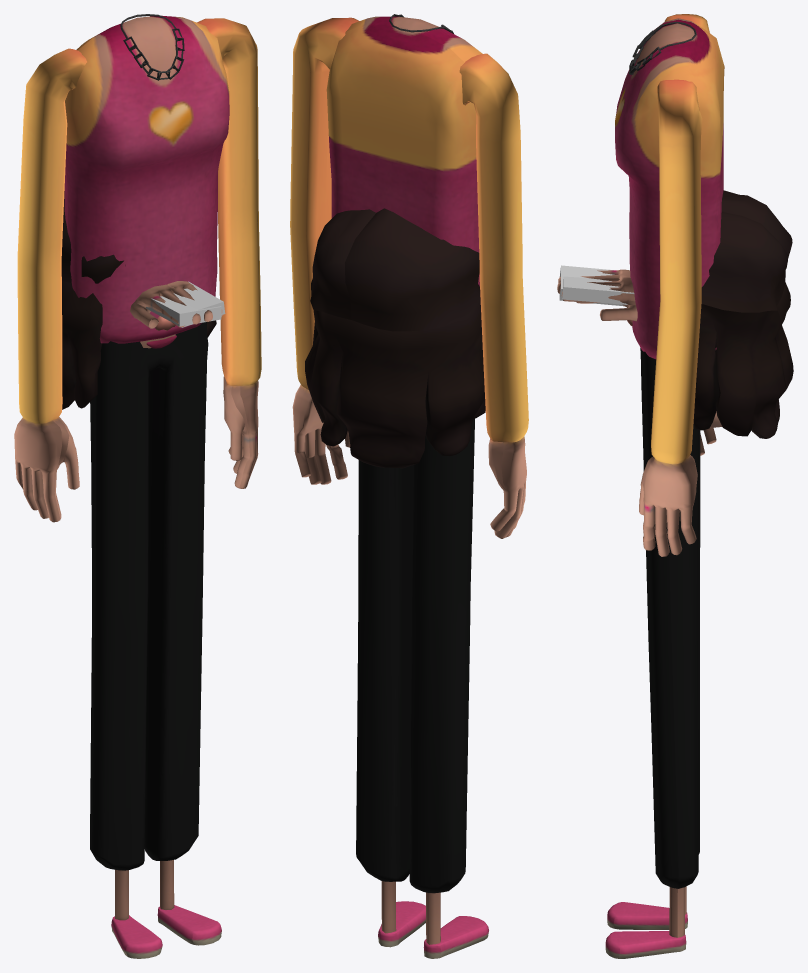
The model's file is Lisa.obj.
The picture shows the model from 3 angles, left to right: view 1: azimuth 30°, elevation 25°; view 2: azimuth 150°, elevation 25°; view 3: azimuth 270°, elevation 25°; orthographic projection. The views are drawn at different scales.
Parts seen in each view (by area): view 1: Body, Arms, Head, HandLeft, HandLeftCol, HandRightCol; view 2: Body, Head, Arms; view 3: Body, Arms, Head, HandRightCol, HandRight, HandLeftCol.
Part boxes in pixels (x1=…): Body: x1=64, y1=14, x2=229, y2=958; Arms: x1=14, y1=18, x2=261, y2=522; Head: x1=61, y1=191, x2=216, y2=409; HandLeft: x1=130, y1=284, x2=200, y2=328; HandLeftCol: x1=146, y1=296, x2=221, y2=326; HandRightCol: x1=173, y1=281, x2=225, y2=327; Body: x1=326, y1=14, x2=488, y2=958; Head: x1=305, y1=208, x2=485, y2=468; Arms: x1=290, y1=17, x2=528, y2=538; Body: x1=605, y1=18, x2=724, y2=958; Arms: x1=639, y1=14, x2=716, y2=556; Head: x1=627, y1=190, x2=793, y2=438; HandRightCol: x1=562, y1=276, x2=634, y2=304; HandRight: x1=557, y1=277, x2=637, y2=321; HandLeftCol: x1=559, y1=265, x2=625, y2=306.
Size of the model in its own units: 0.3999 by 1.5 by 0.3557.
